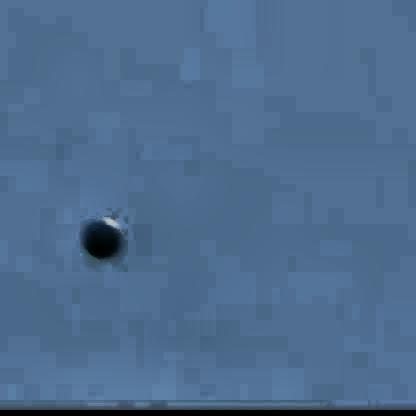golfball: (78, 217, 120, 256)
